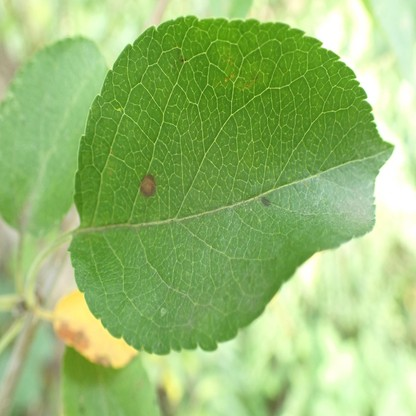frogeye_leaf_spot: (140, 174, 156, 196), (261, 196, 272, 208)
powdery_mildew: (316, 163, 372, 228)
